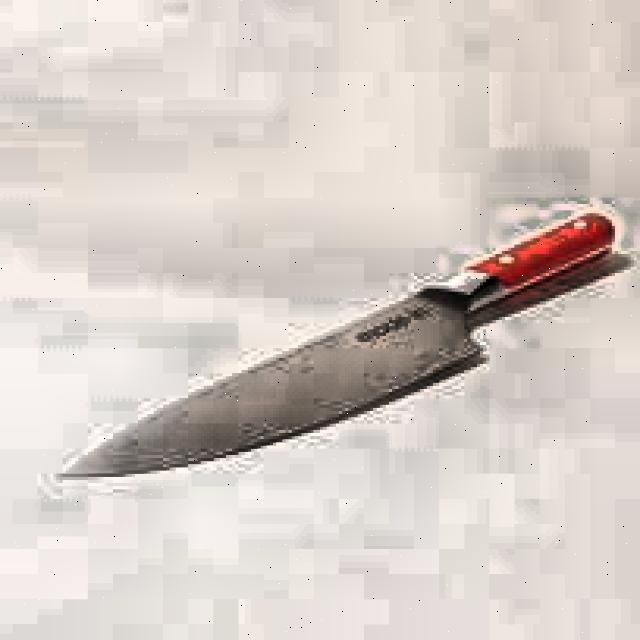knife: (60, 215, 616, 478)
